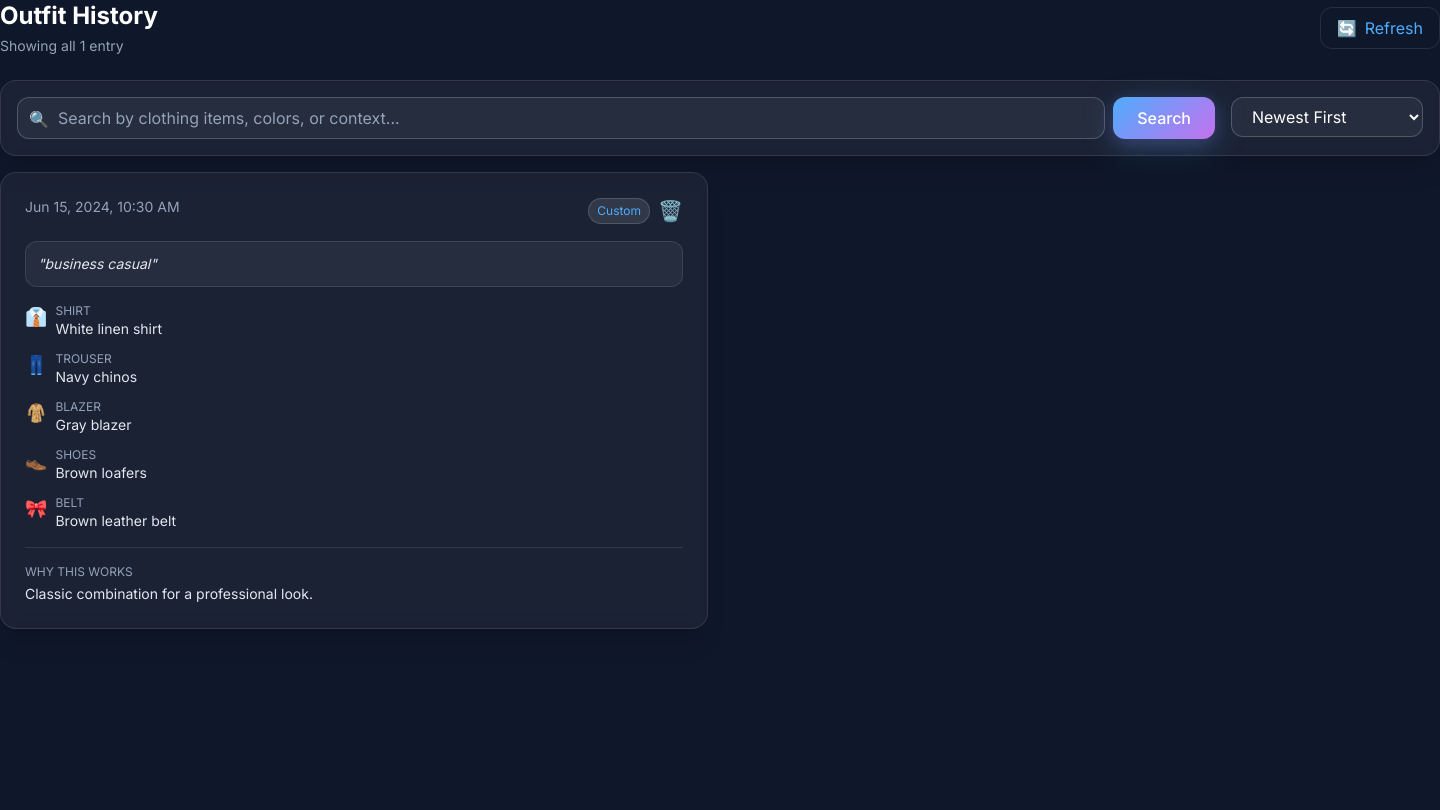
Scenario: OutfitHistory › delete entry › opens confirmation modal when delete button is clicked
The width and height of the screenshot is (1440, 810).
Click the button titled "Delete this entry" at (670, 211), box [658,197,683,225]
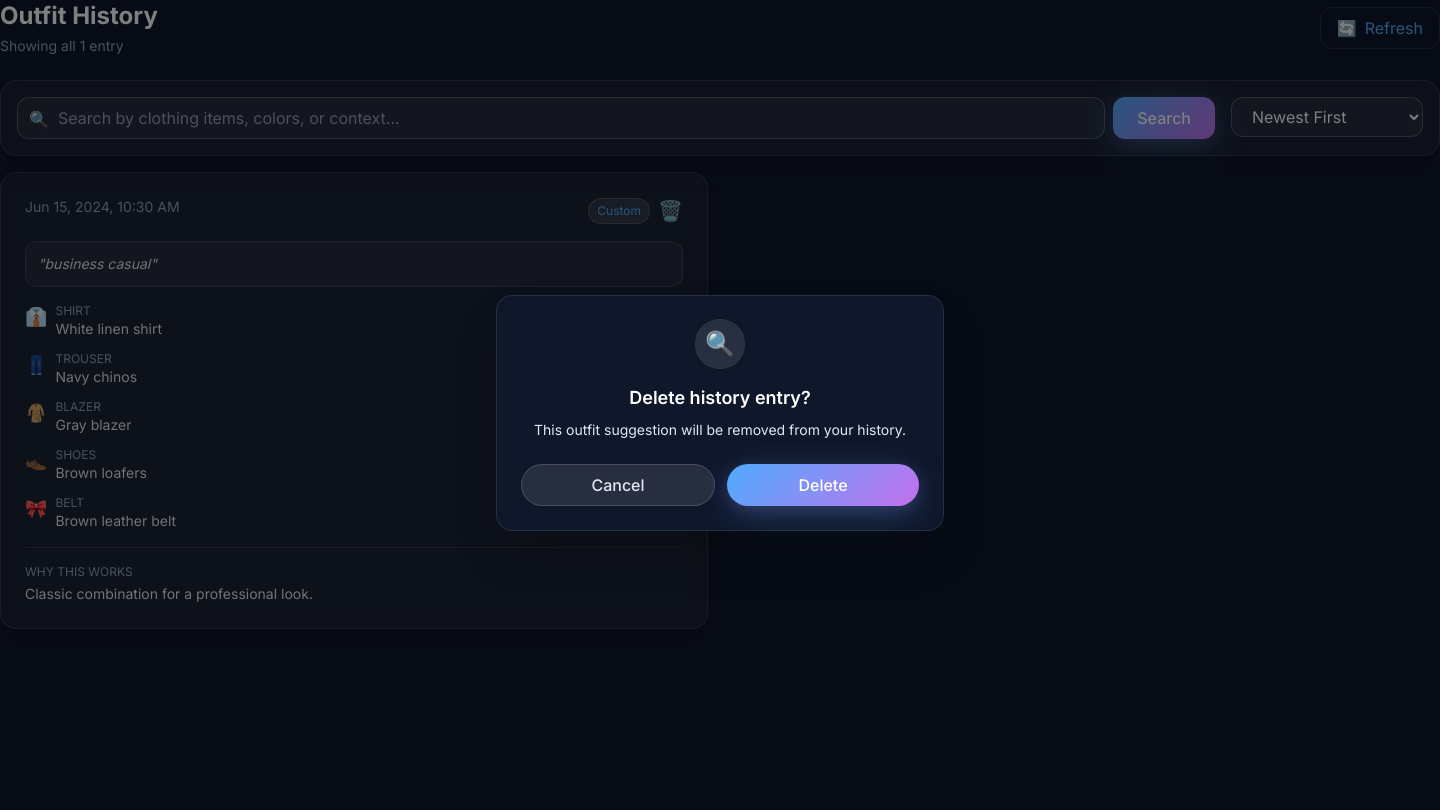
Now the heading "Delete history entry?" is shown, box [629,387,811,408]
Now the text "This outfit suggestion will be removed from your history." is shown, box [521,420,919,440]
